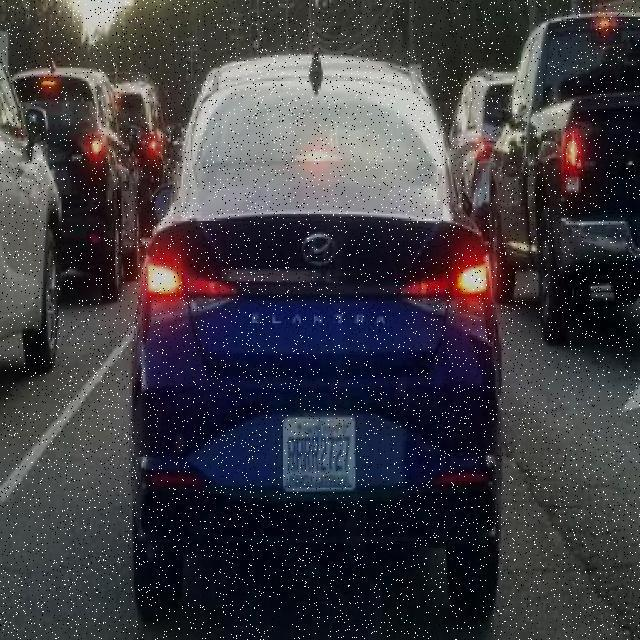LicensePlate: (281, 414, 356, 494)
